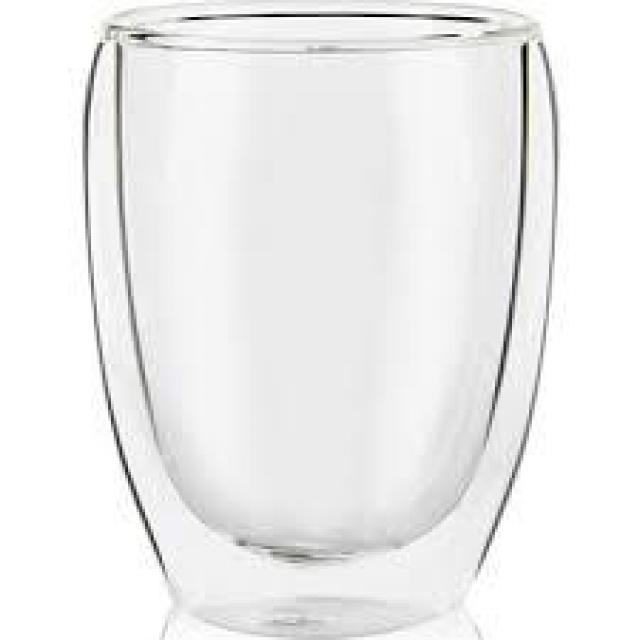non-organic waste: (64, 6, 567, 632)
